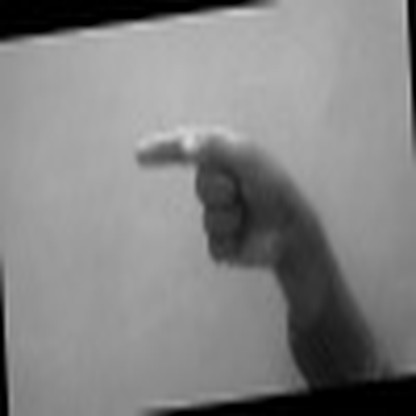g: (130, 113, 309, 272)
